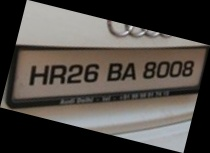character: (27, 63, 49, 86), (48, 64, 66, 85), (66, 63, 82, 83), (106, 62, 122, 81), (121, 62, 137, 81), (84, 63, 99, 82), (156, 60, 169, 79), (142, 61, 156, 78), (181, 58, 193, 77), (169, 60, 182, 77)
